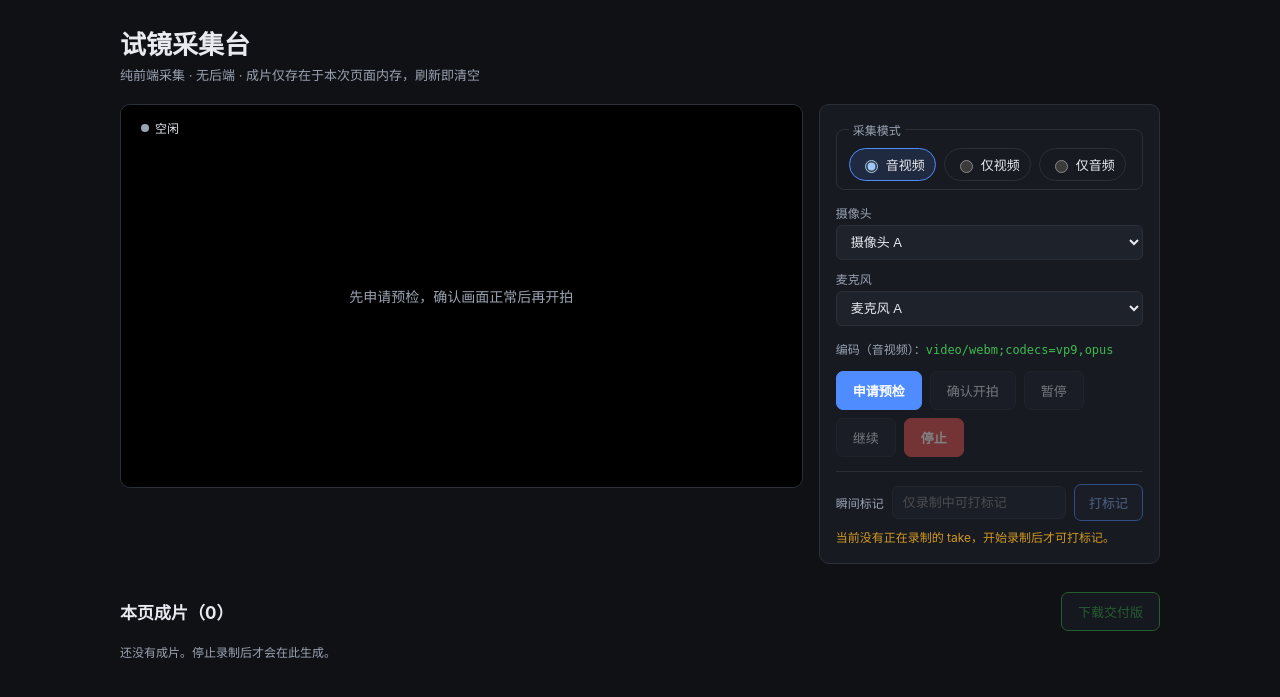
设备枚举与热插拔（UI） › 取消等待授权后：设备解锁，迟到设备变更只影响待选清单，不影响任何成片
This screenshot has width=1280, height=697.
Click the button "申请预检" at [879, 390], box x1=836 y1=371 x2=922 y2=410
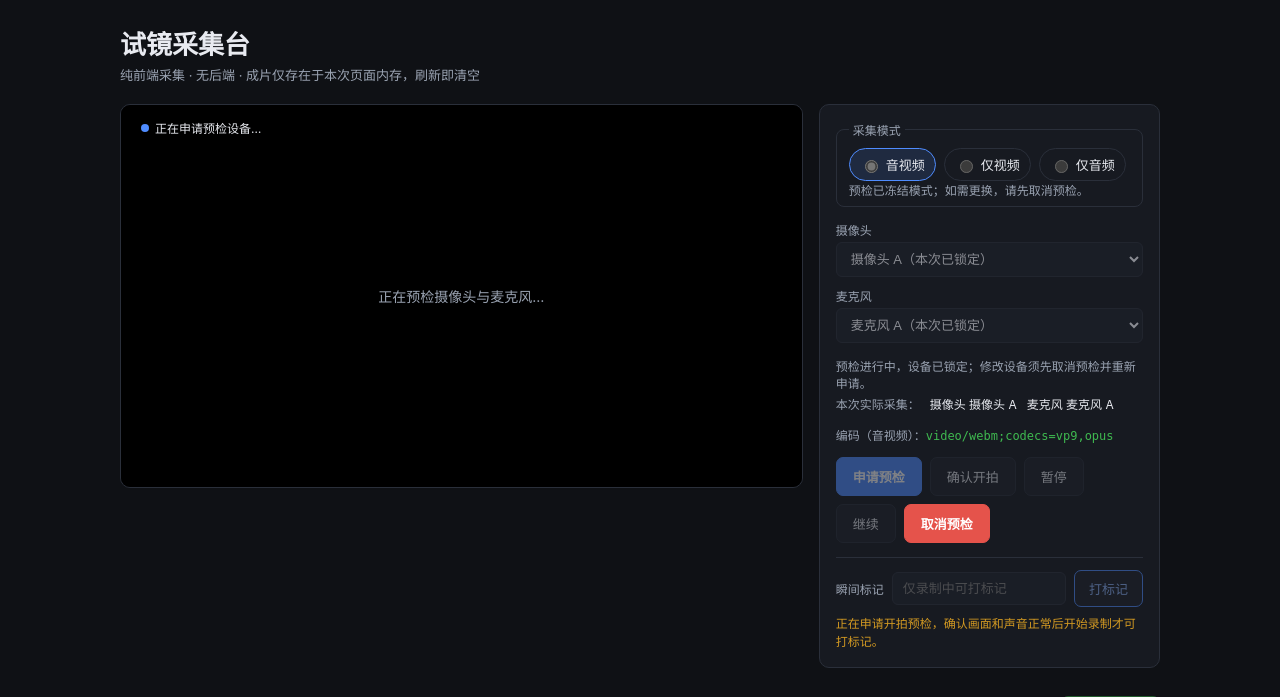
Click the button "取消预检" at [947, 524], box x1=904 y1=504 x2=990 y2=543
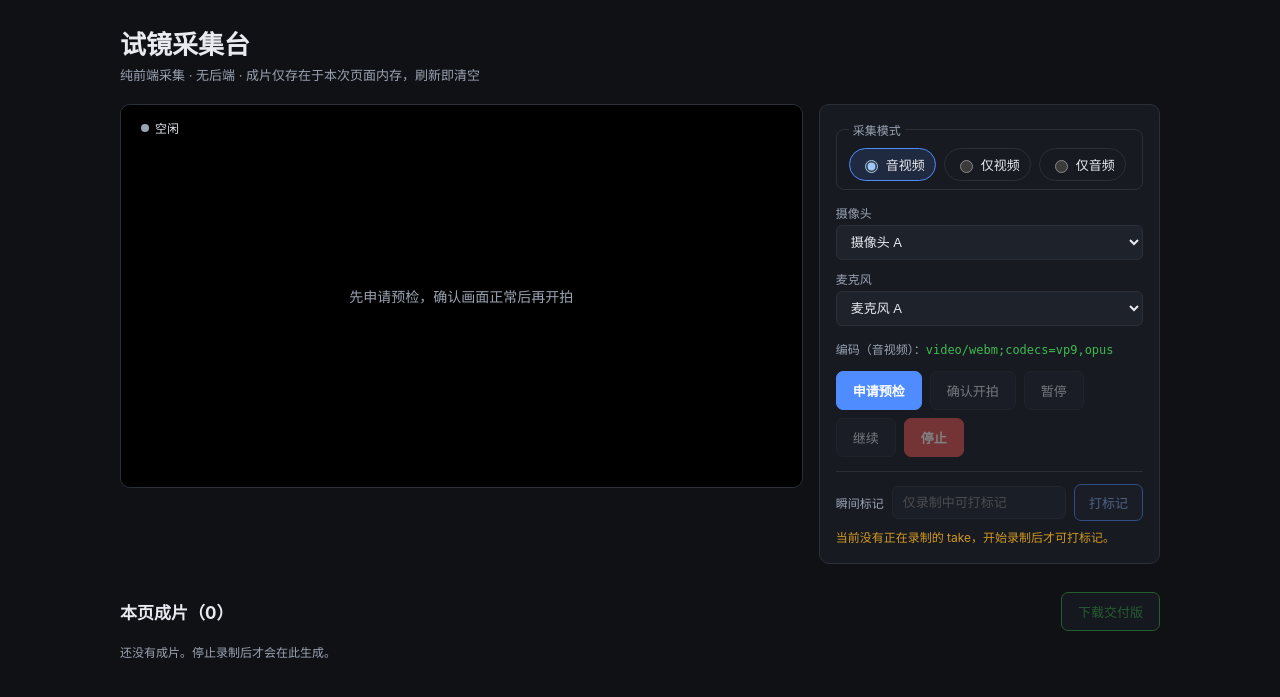
Check: the dropdown labelled "摄像头" is enabled, box x1=836 y1=225 x2=1143 y2=260
